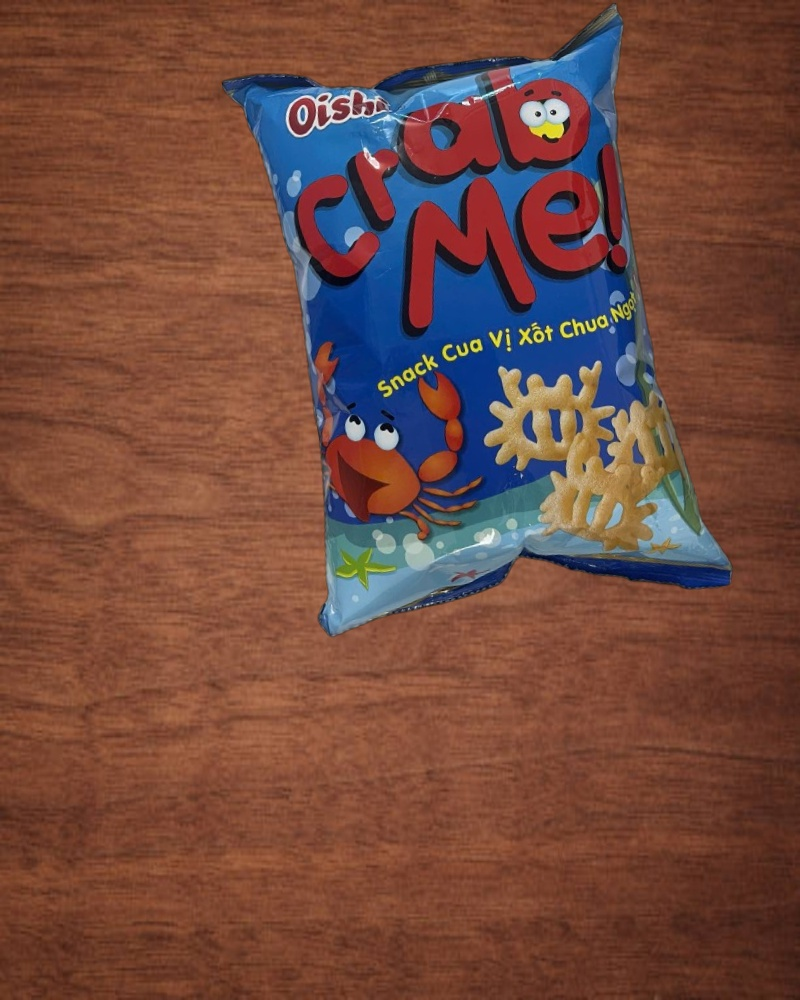Snack cua: (221, 1, 735, 651)
